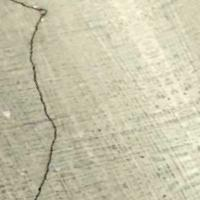crack: (12, 0, 66, 199)
